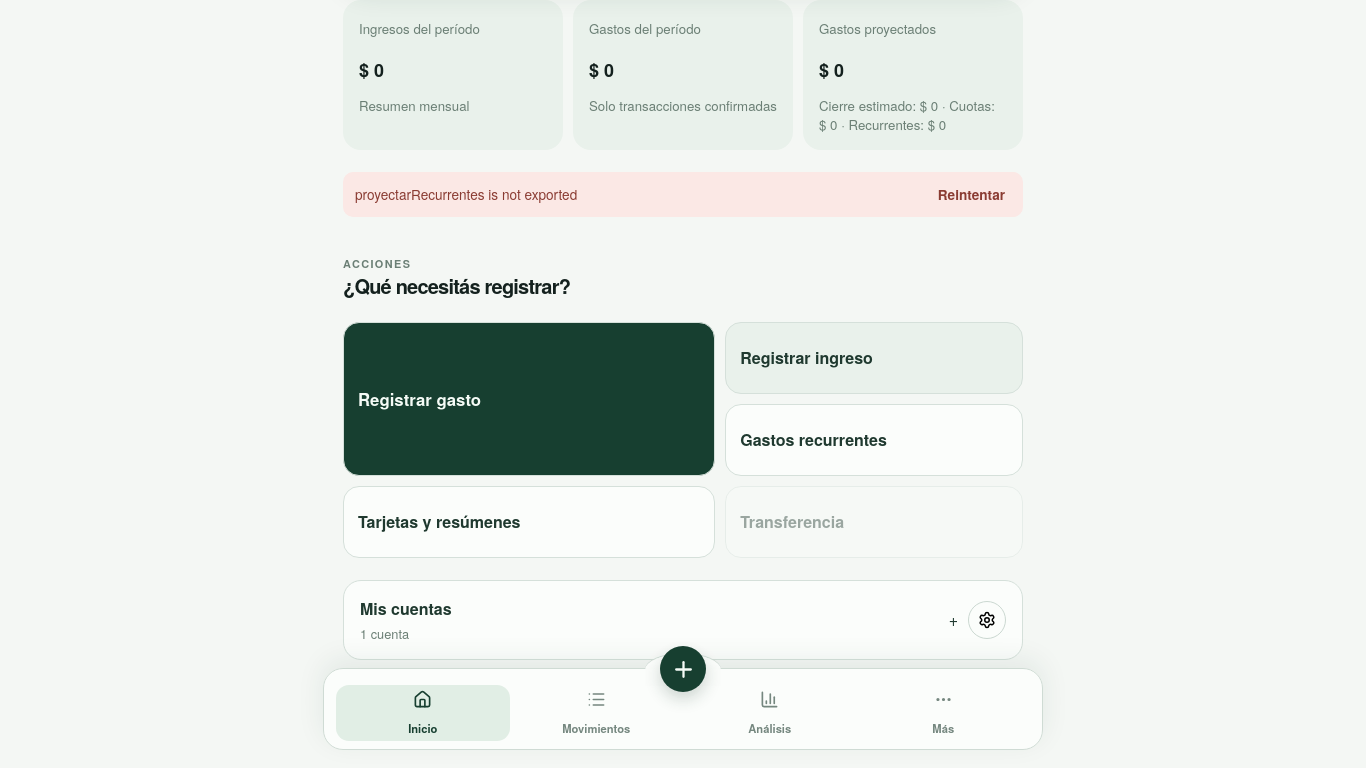
Test: App expense form › edits an account OCR entity from the account manager
(page scrolled)
Click the button named "Administrar cuentas": (987, 620) [968, 601, 1006, 639]
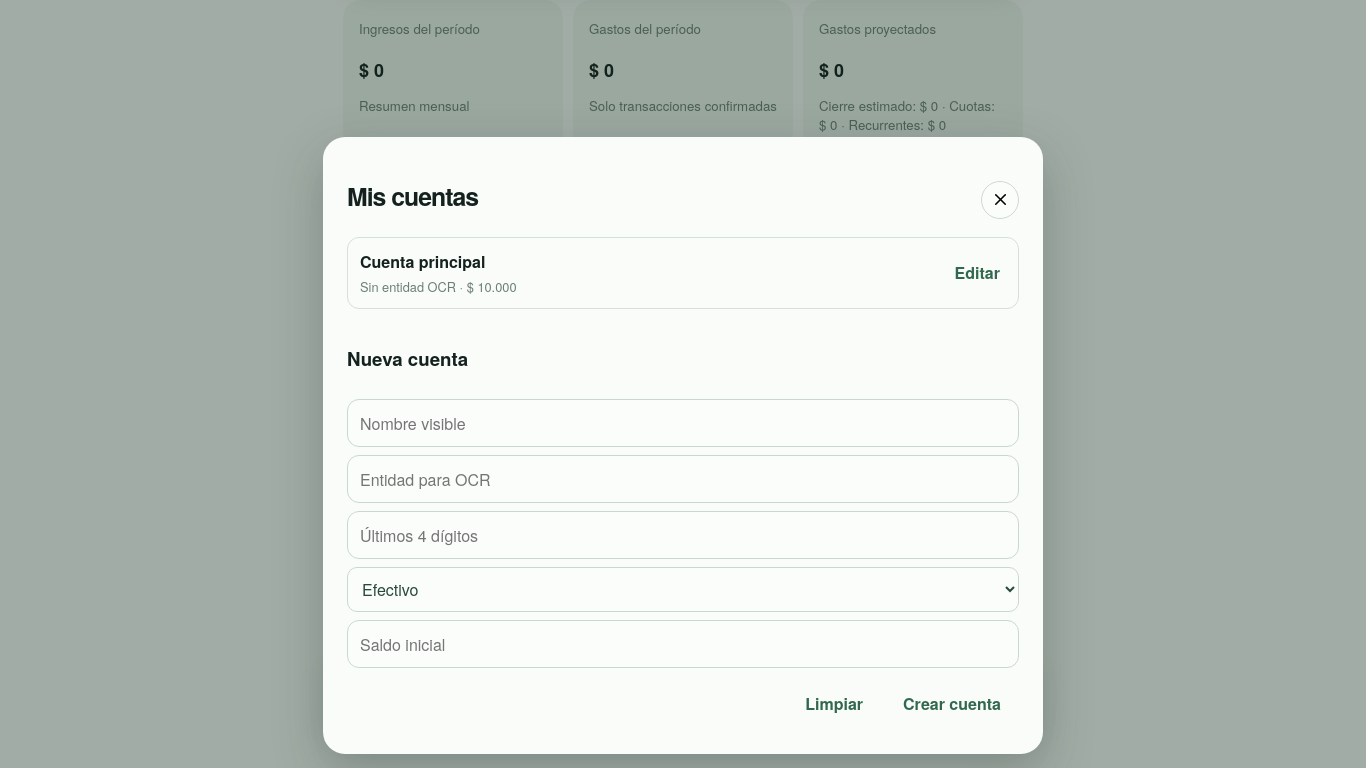
Click the button "Editar": (977, 273) [949, 250, 1006, 296]
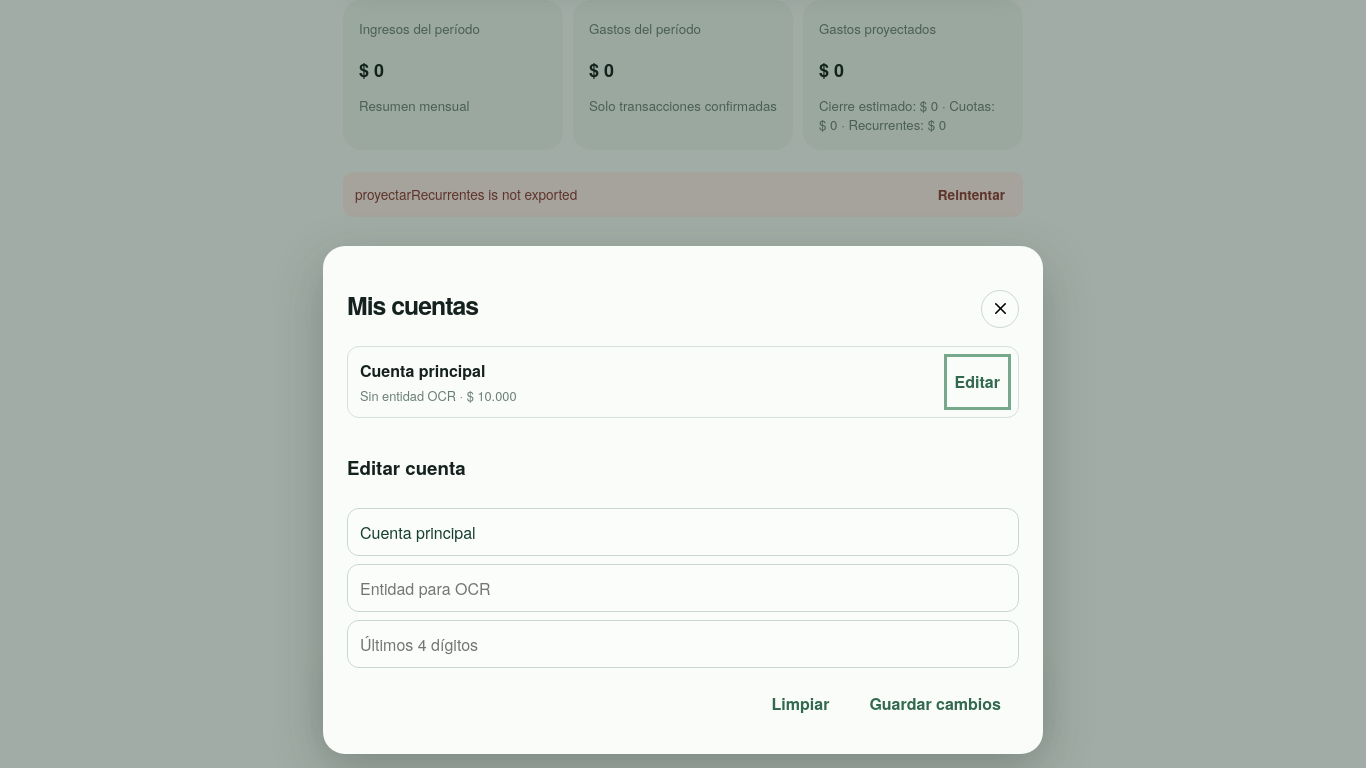
In the field labelled "Entidad para OCR": (683, 588) [347, 564, 1019, 612], type "Banco Nuevo"
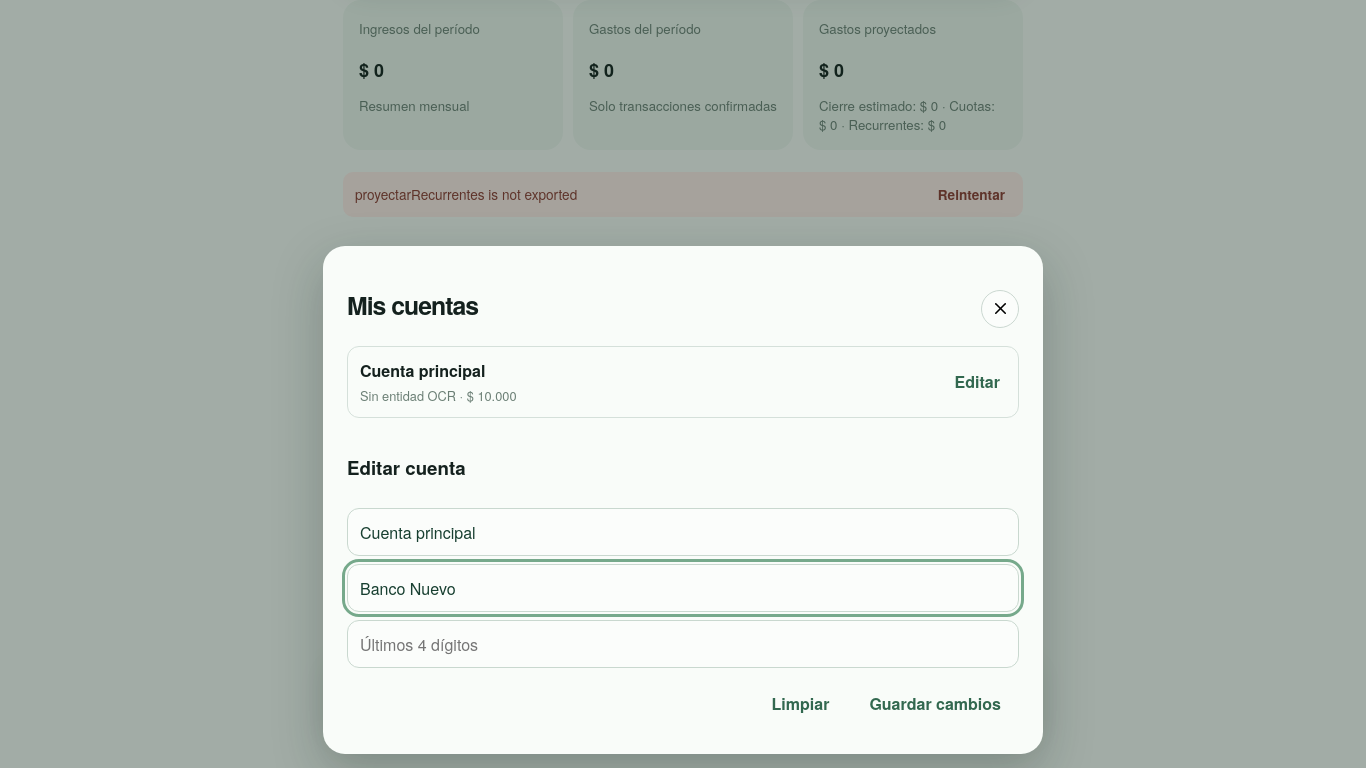
Click the button "Guardar cambios": (935, 703) [851, 676, 1019, 730]
(page scrolled)
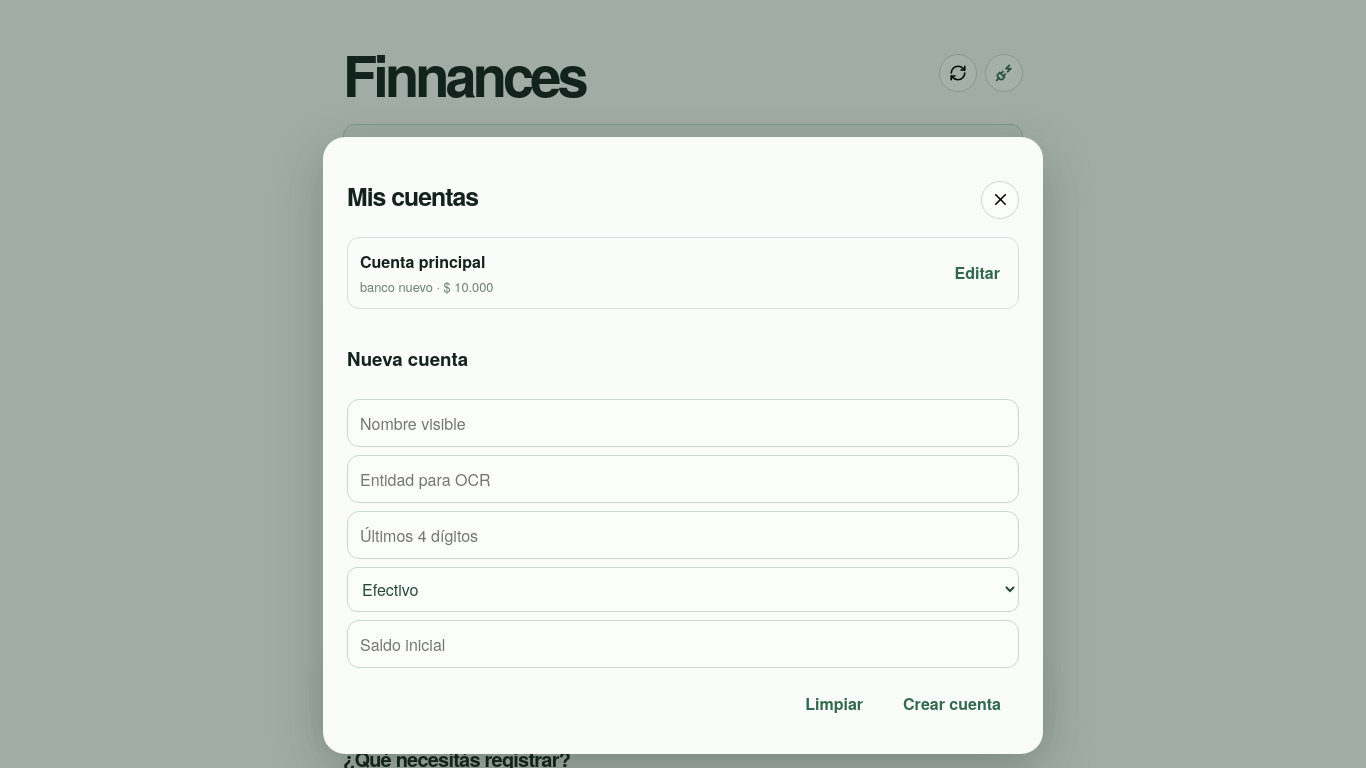
Now the message shows "actualizada", box [358, 137, 593, 158]
